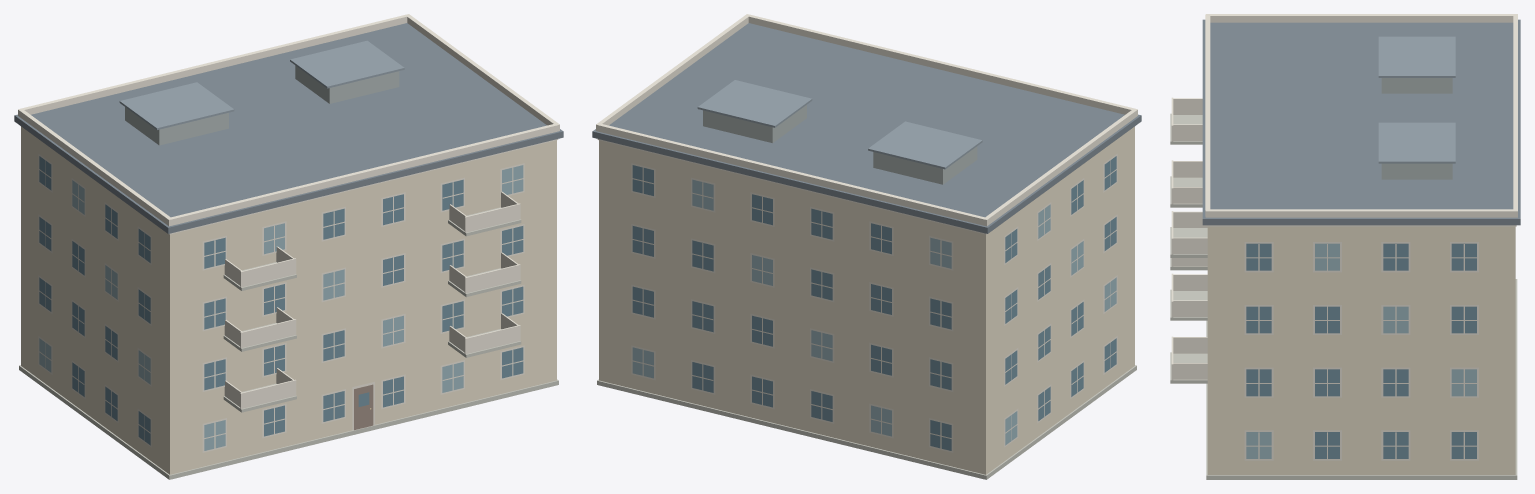
Rendered from apartment-balconies.glb.
3 views of the same model, side by side, from view 1: azimuth 30°, elevation 25°; view 2: azimuth 150°, elevation 25°; view 3: azimuth 270°, elevation 25° (orthographic). The views are drawn at different scales.
Parts seen in each view (by area): view 1: apartment-balconies; view 2: apartment-balconies; view 3: apartment-balconies.
Part boxes in pixels (x1,y1,x2,y2): apartment-balconies: [14, 14, 563, 479]; apartment-balconies: [592, 14, 1141, 479]; apartment-balconies: [1170, 14, 1520, 479].
Bounding box in the file's own units: 21.45 × 14.17 × 15.93.
